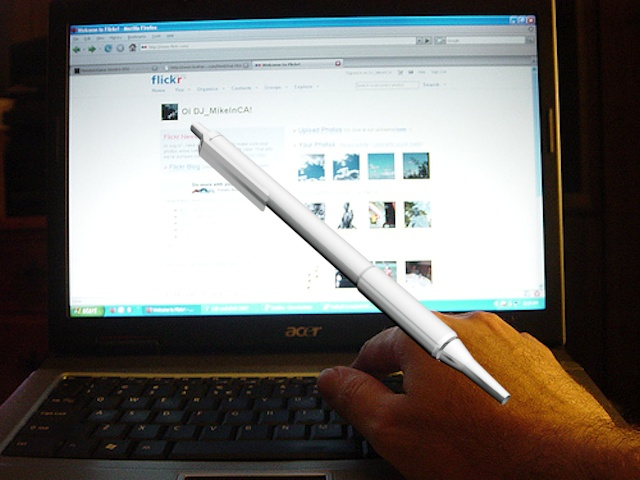pen: (185, 121, 512, 408)
